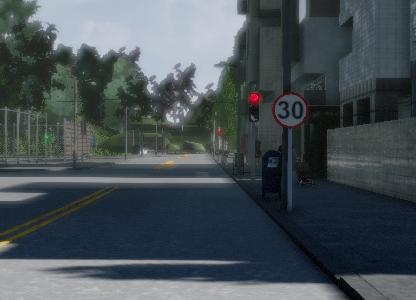Speed_30: (269, 90, 312, 131)
